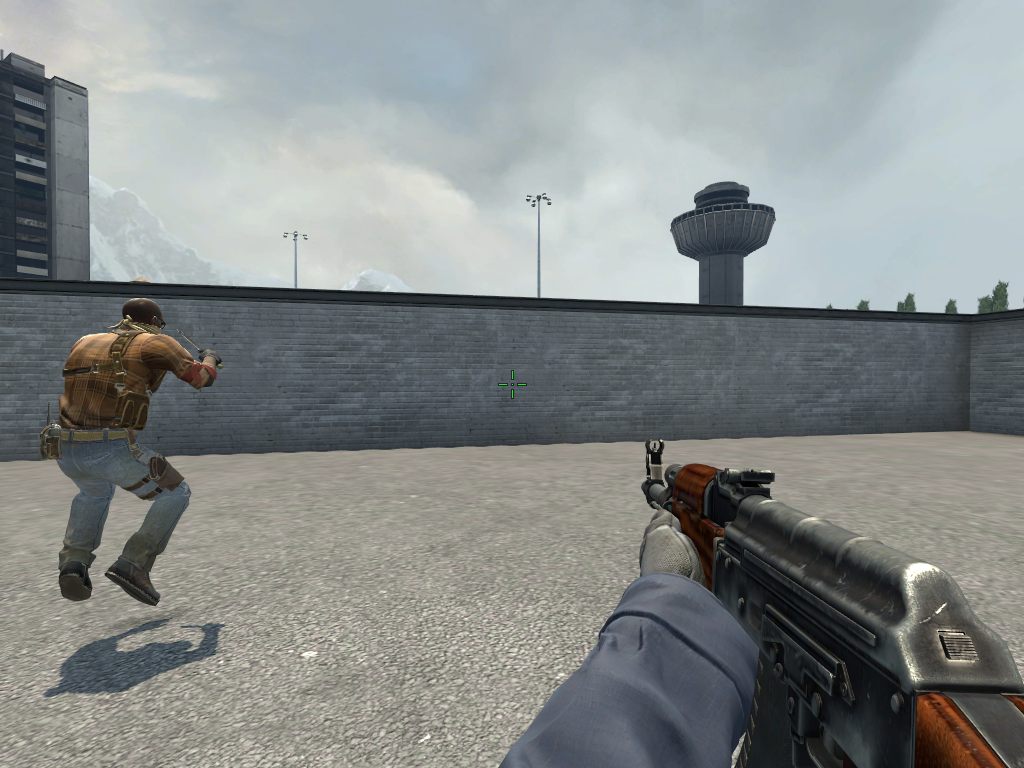tr head: (111, 298, 172, 347)
